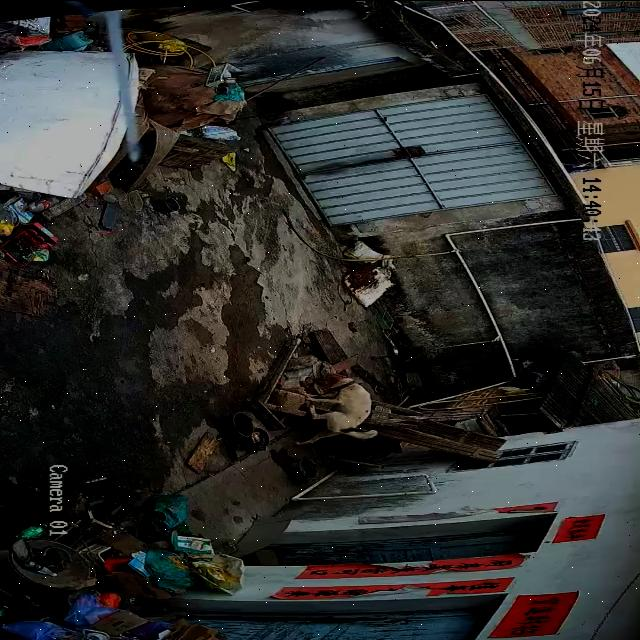dog: (295, 381, 381, 446)
